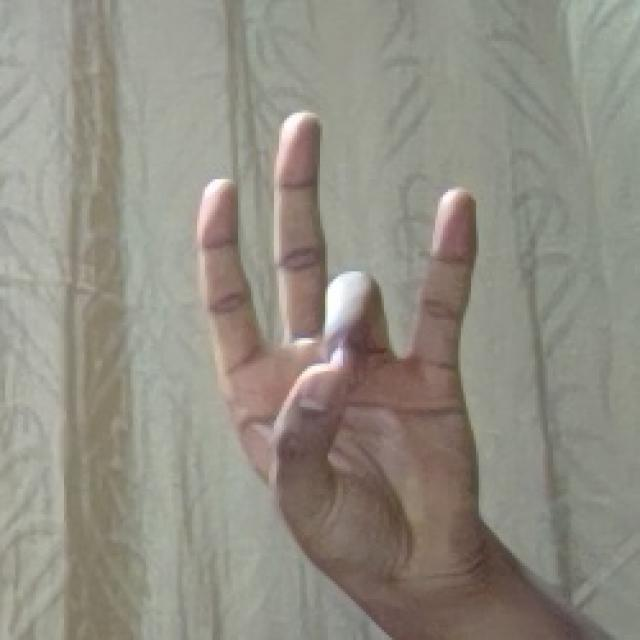Numeric-7: (193, 91, 488, 618)
